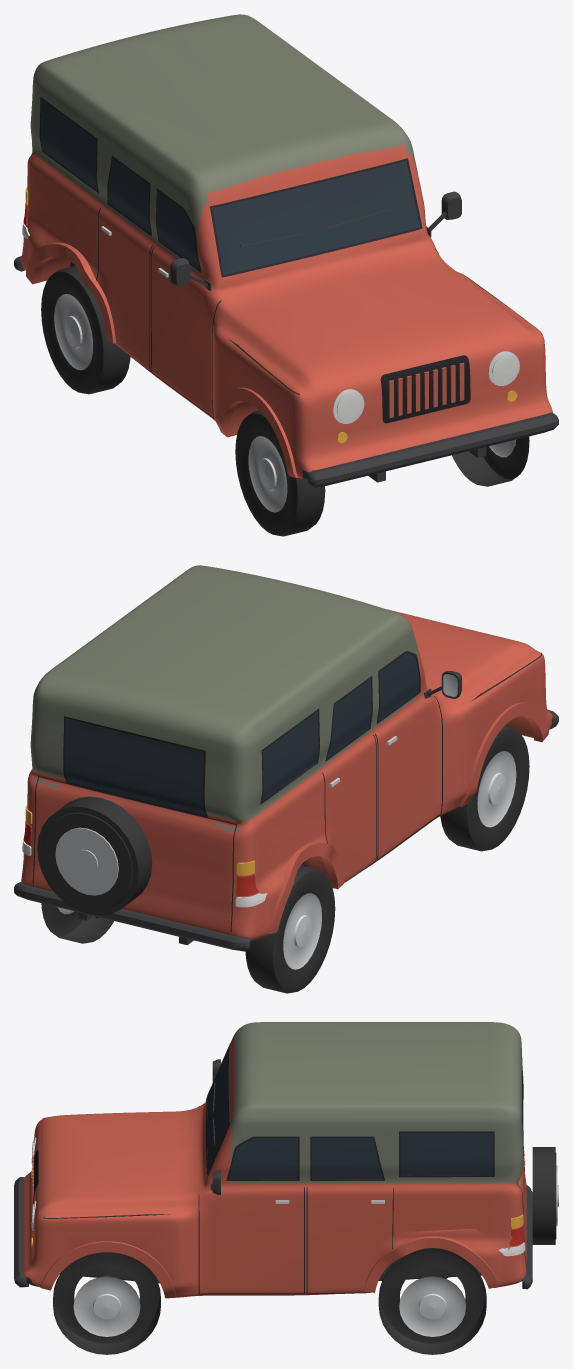
Rendered from uaz469.glb.
The picture shows the model from 3 angles, top to bottom: view 1: azimuth 30°, elevation 25°; view 2: azimuth 150°, elevation 25°; view 3: azimuth 270°, elevation 25°; orthographic projection. The views are drawn at different scales.
Visible parts, largest first — view 1: paint, glass, trim, wheel_rr, wheel_fr, wheel_fl, mirrors, headlights; view 2: paint, trim, glass, wheel_rr, wheel_fr, wheel_rl, mirrors, taillights; view 3: paint, trim, glass, wheel_rl, wheel_fl.
Boxes of the visible parts, x1,y1,x2,y2 form: paint: (21,14,552,479); glass: (41,100,420,274); trim: (14,97,558,487); wheel_rr: (41,266,130,394); wheel_fr: (235,410,325,536); wheel_fl: (452,436,529,486); mirrors: (170,191,461,290); headlights: (337,355,516,420); paint: (21,565,553,940); trim: (14,651,558,951); glass: (65,653,419,815); wheel_rr: (245,865,335,993); wheel_fr: (440,725,529,851); wheel_rl: (41,903,113,943); mirrors: (424,671,461,698); taillights: (23,821,258,895); paint: (23,1022,526,1297); trim: (14,1043,558,1298); glass: (207,1048,523,1179); wheel_rl: (378,1248,486,1354); wheel_fl: (53,1252,160,1354).
Size of the model in its own units: 2.04 by 2.01 by 3.98.
